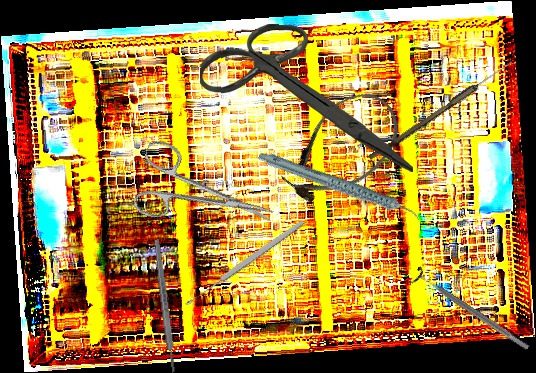Cannula: (269, 77, 415, 221)
Fixation Ring: (407, 264, 535, 358)
Handpiece: (256, 121, 422, 254)
Iris Scissors: (198, 23, 416, 172), (126, 137, 284, 255)
Scalpel Handle: (152, 239, 178, 373)
Surgical Spoon: (367, 57, 515, 164), (183, 218, 307, 308)
